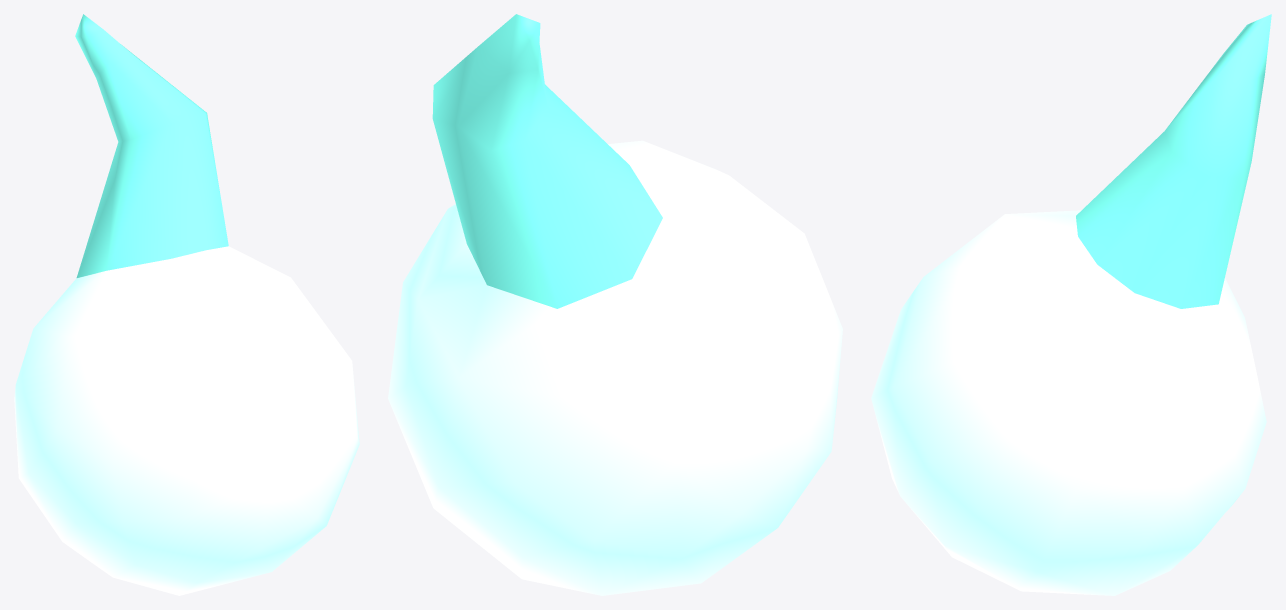
File: soul_orb.glb
3 renders of one model, left to right at view 1: azimuth 30°, elevation 25°; view 2: azimuth 150°, elevation 25°; view 3: azimuth 270°, elevation 25°, orthographic. The views are drawn at different scales.
Visible parts, largest first — view 1: soul_orb; view 2: soul_orb; view 3: soul_orb.
Part boxes in pixels (x1,y1,x2,y2): soul_orb: (14, 14, 359, 595); soul_orb: (388, 14, 842, 595); soul_orb: (871, 14, 1271, 595).
Bounding box in the file's own units: 0.3042 × 0.4735 × 0.308.
